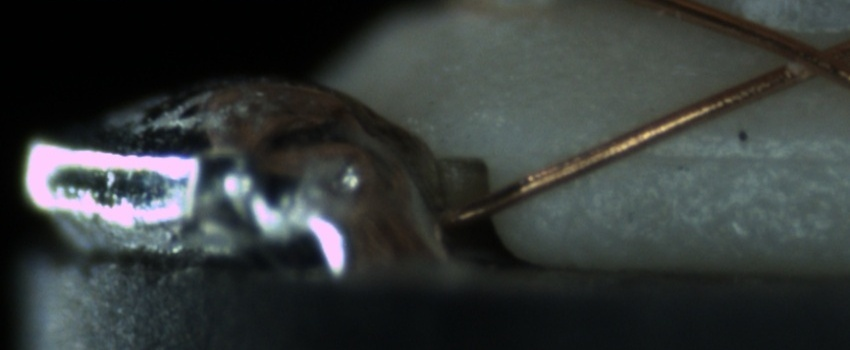CL: (762, 27, 846, 90)
DL: (609, 122, 845, 190)
